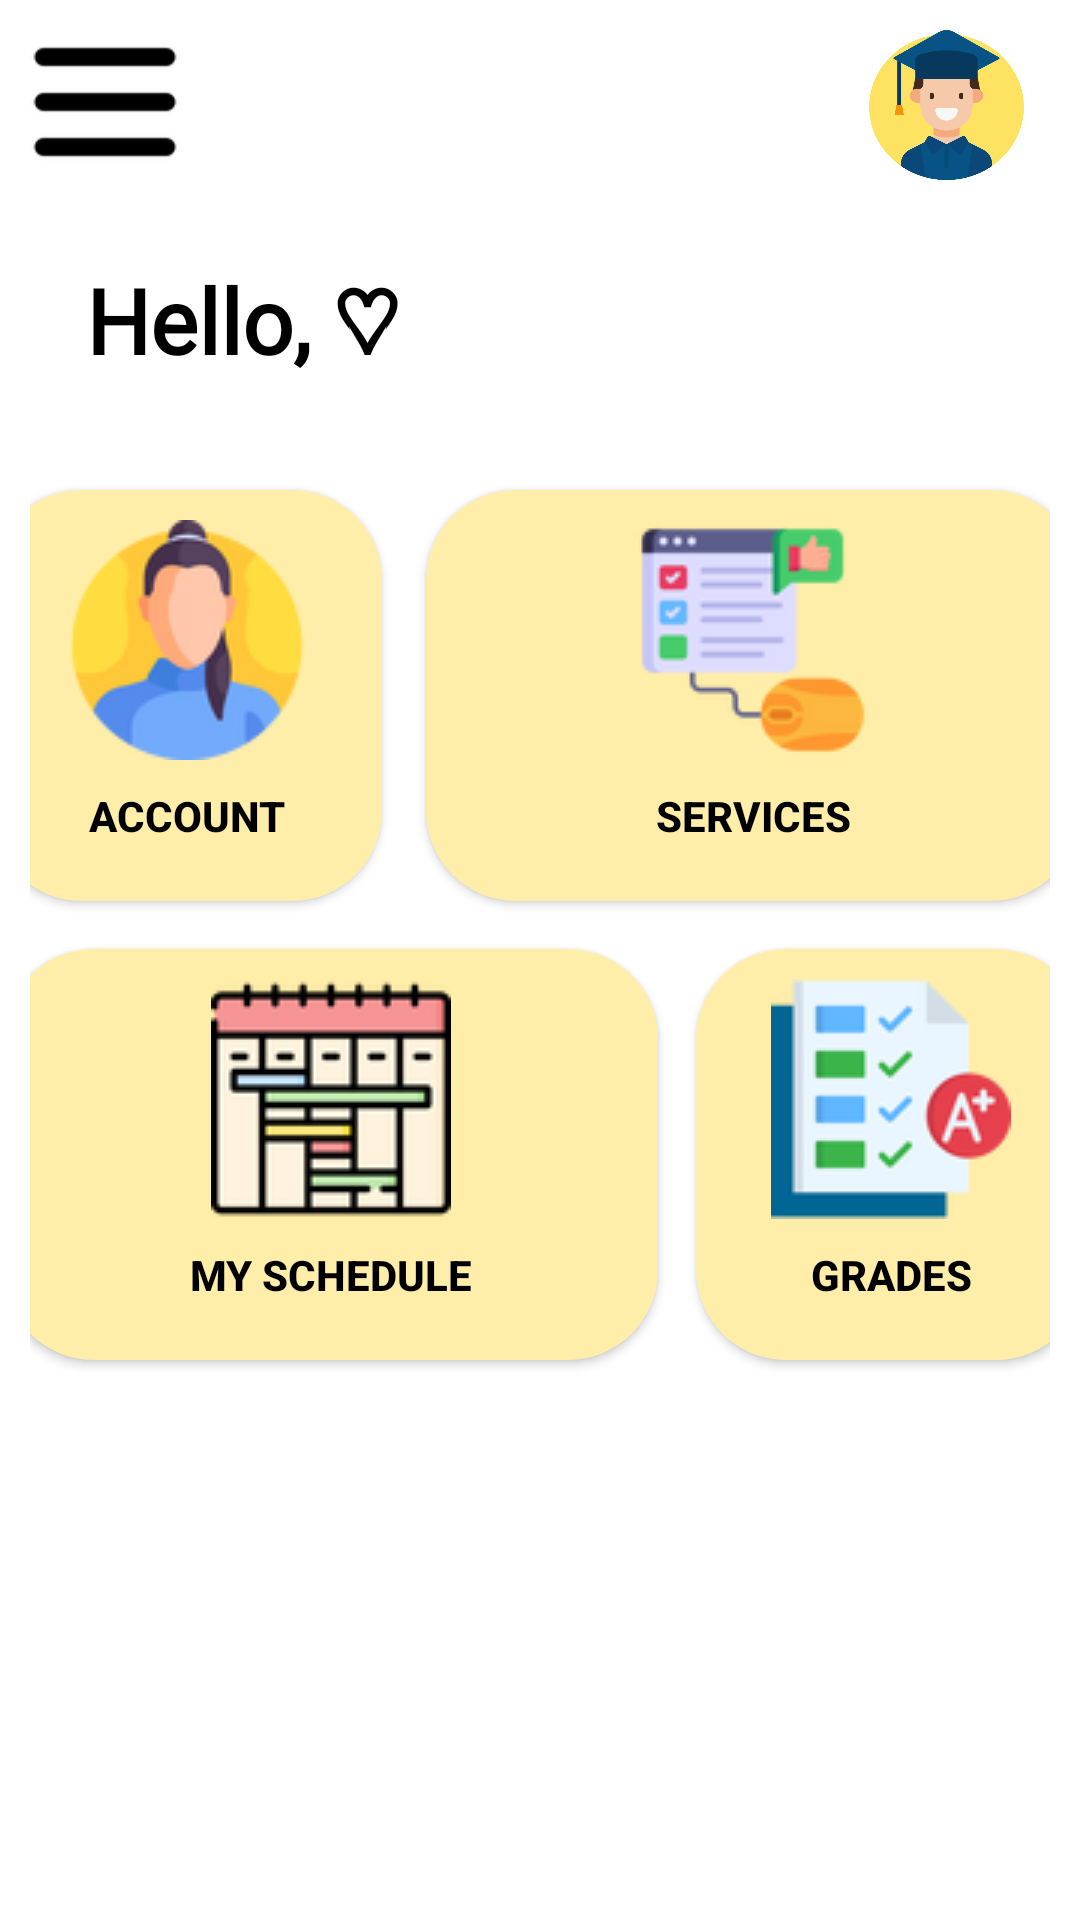

Point at icon controls on the screen. Image size 1080*1920, points as [x,y].
academic: [946,105]
rsz more: [105,102]
